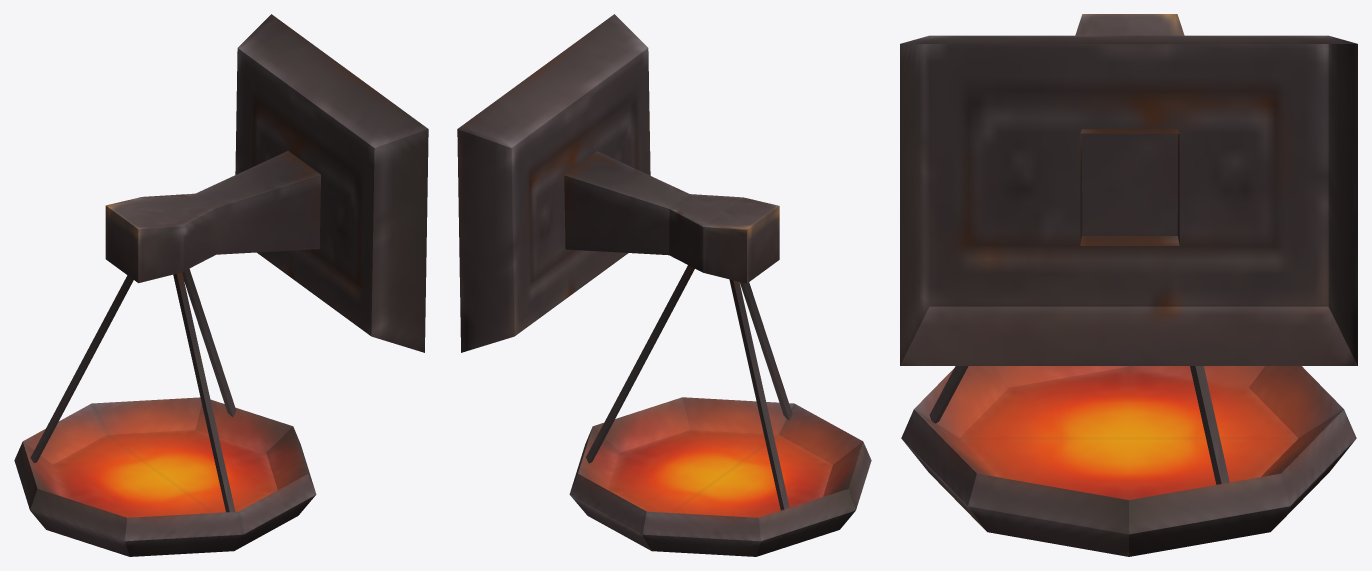
File: guchengqishituan_ludeng.FBX
3 views of the same model, side by side, from view 1: azimuth 30°, elevation 25°; view 2: azimuth 150°, elevation 25°; view 3: azimuth 270°, elevation 25° (orthographic). The views are drawn at different scales.
Parts seen in each view (by area): view 1: ludeng; view 2: ludeng; view 3: ludeng.
Part boxes in pixels (x1=…): ludeng: x1=14, y1=14, x2=428, y2=556; ludeng: x1=457, y1=14, x2=871, y2=556; ludeng: x1=900, y1=14, x2=1357, y2=556.
Size of the model in its own units: 133 by 153 by 113.
